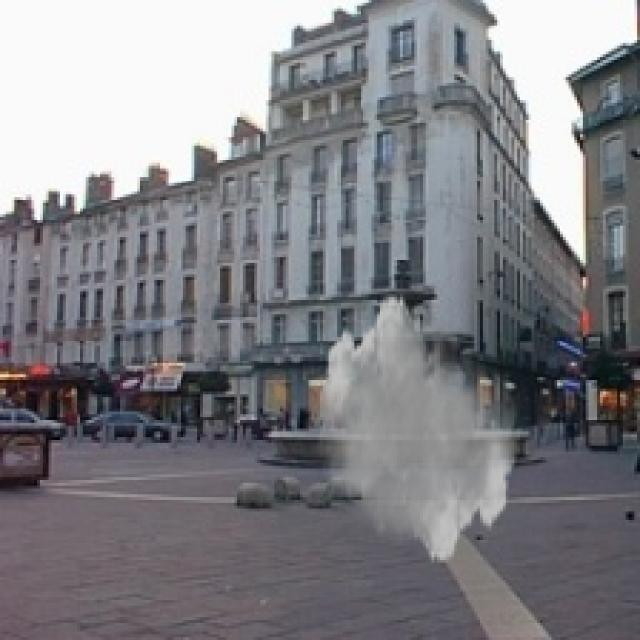smoke: (314, 291, 520, 566)
